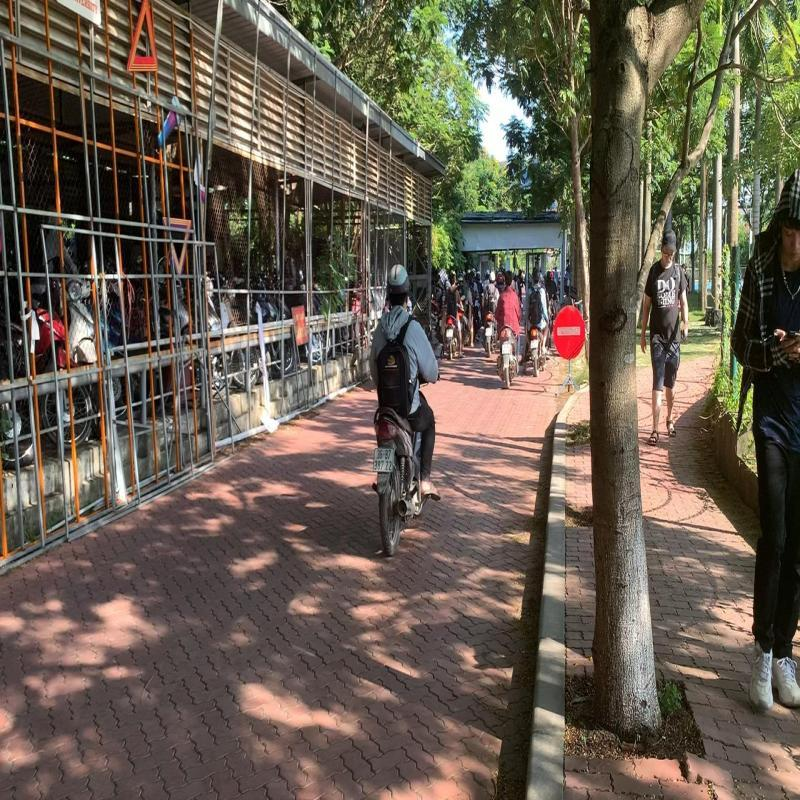helmet: (386, 264, 410, 306), (532, 270, 540, 284)
licenseplate: (374, 447, 394, 472), (502, 344, 512, 356), (530, 339, 539, 349), (446, 329, 454, 338)
motorcyclist: (369, 263, 441, 558), (494, 271, 522, 389), (522, 268, 550, 377), (443, 272, 462, 360)
nohelmet: (504, 270, 513, 288), (450, 274, 456, 286)
